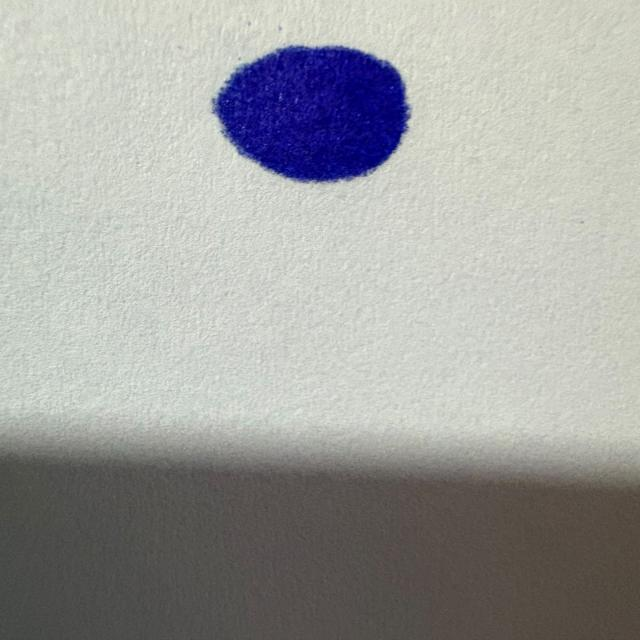Circle: (203, 38, 416, 186)
